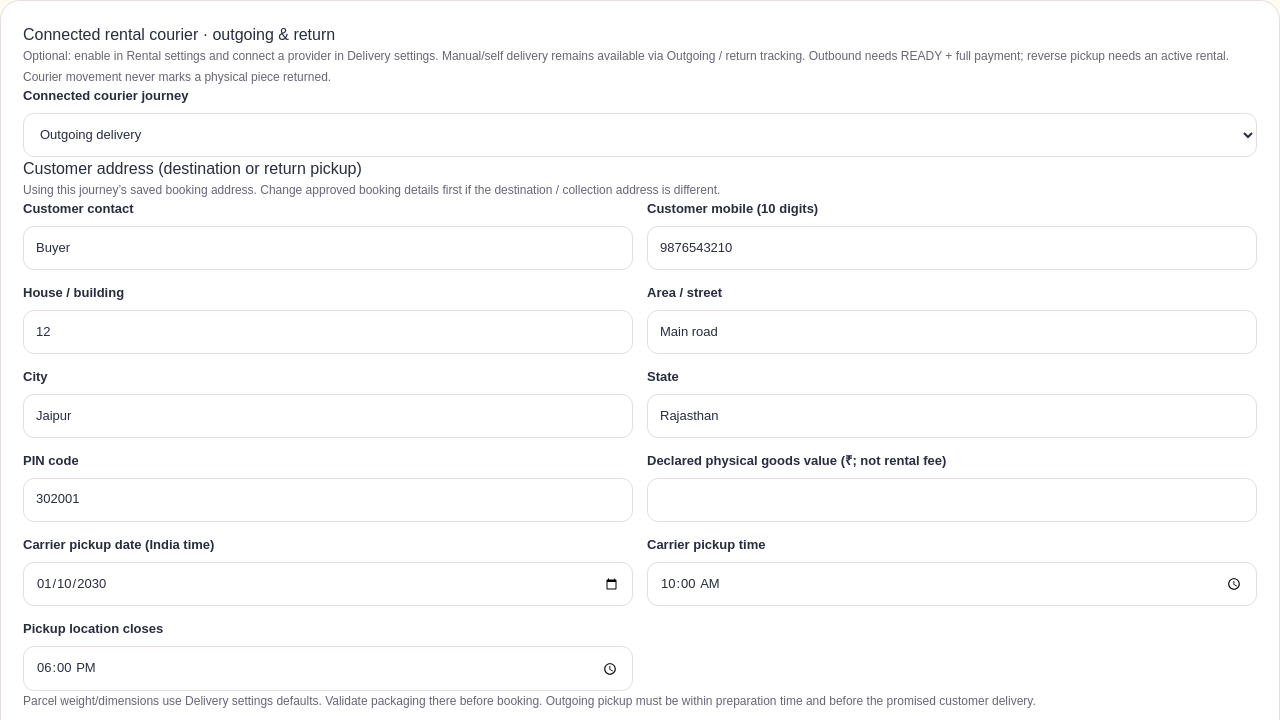
Test case: courier journey switching uses the matching saved booking contact/address instead of stale outbound fields
Expected: the field labelled "City" holds "Jaipur", [23,394,633,438]
Expected: the field labelled "City" is disabled, [23,394,633,438]
Select "Reverse return collection" in the dropdown labelled "Connected courier journey" at (640, 135), box [23,113,1257,157]
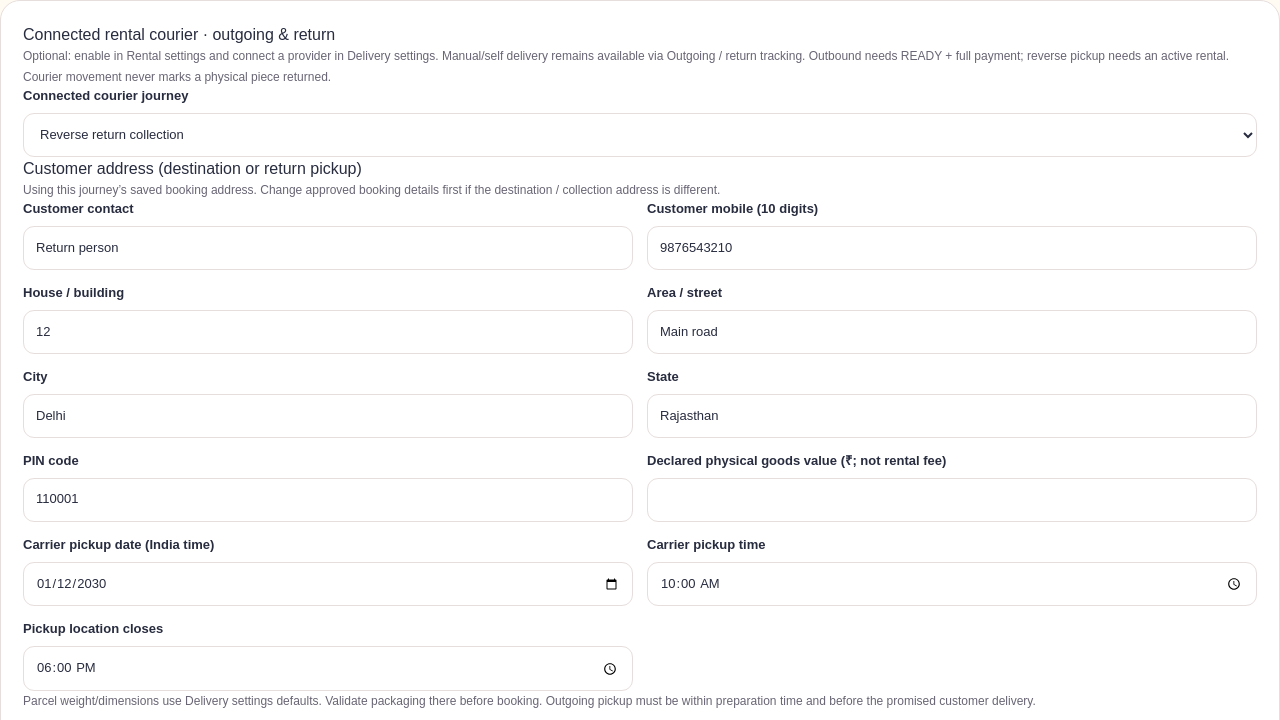
Expected: the field labelled "City" holds "Delhi", [23,394,633,438]
Expected: the field labelled "Customer contact" holds "Return person", [23,226,633,270]
